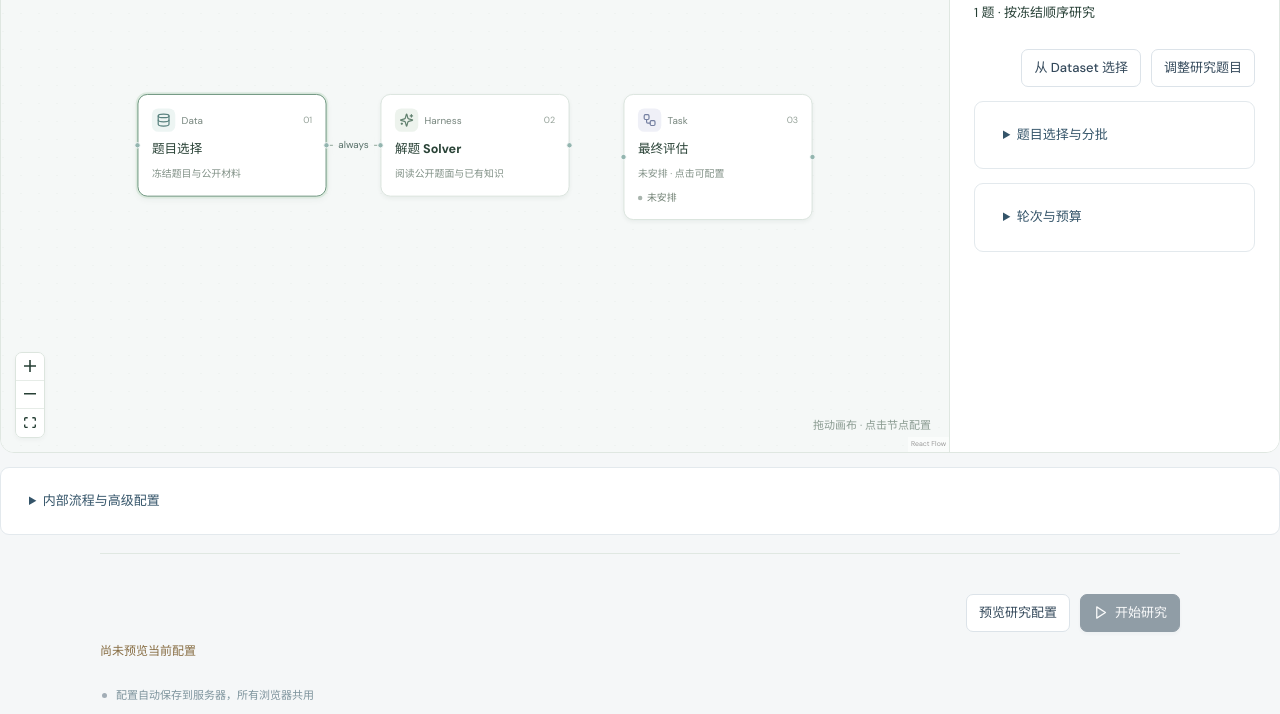
Test case: requires a new preview after the server rejects a stale model revision
The image size is (1280, 714).
(page scrolled)
Step 1. Click the button "预览研究配置" → (1018, 613), box x1=966 y1=594 x2=1070 y2=632
(page scrolled)
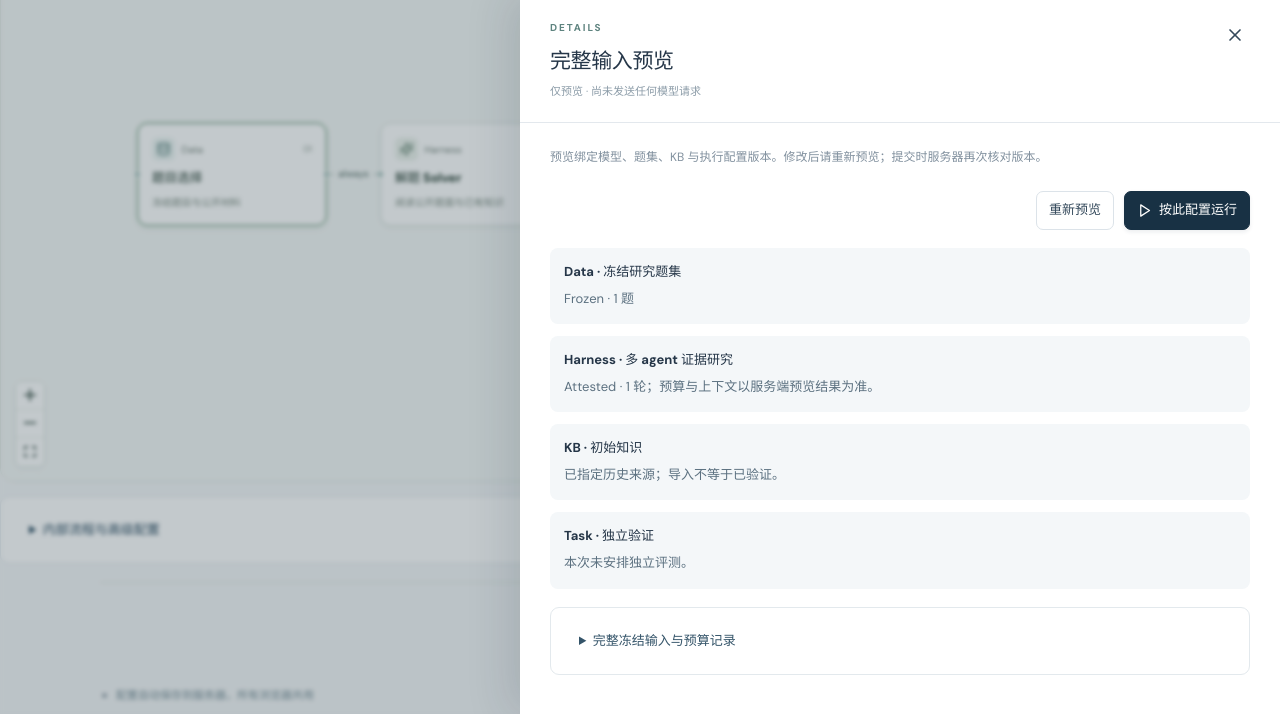
Step 2. Click the button "按此配置运行" → (1187, 211), box x1=1124 y1=192 x2=1250 y2=230
(page scrolled)
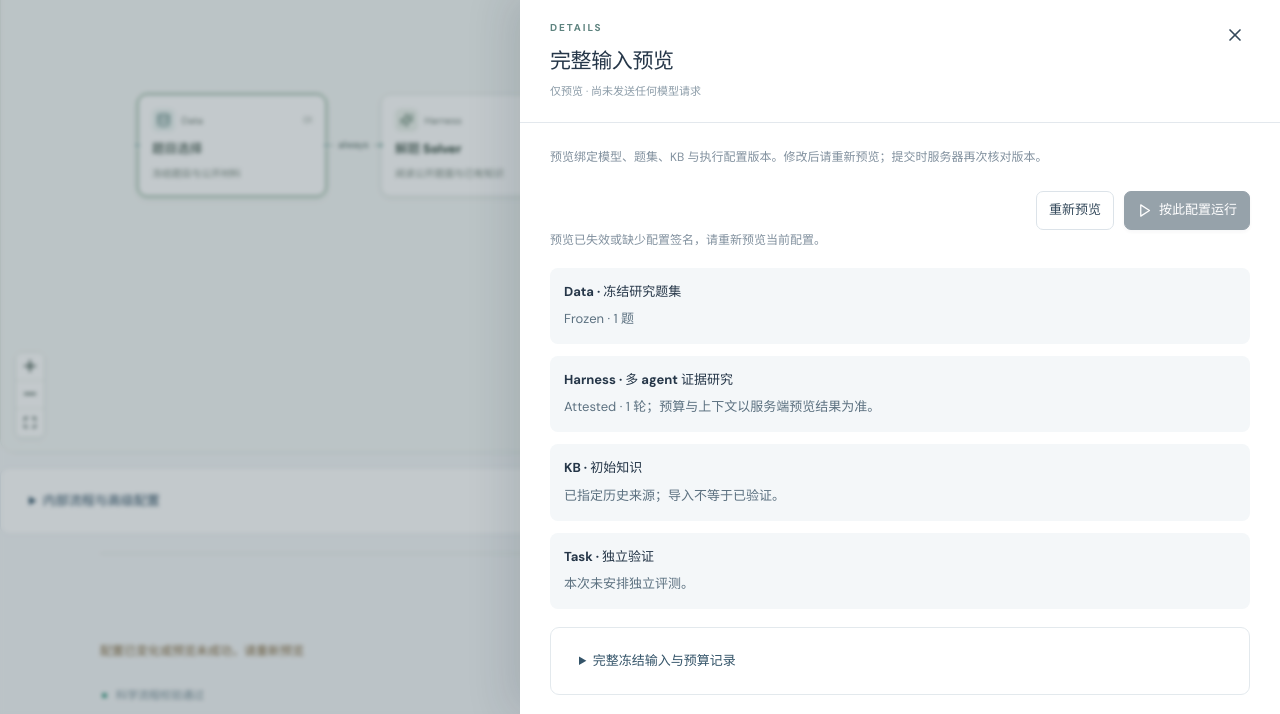
Expected: the button "按此配置运行" is disabled, x1=1124 y1=192 x2=1250 y2=230
Expected: the text "预览已失效或缺少配置签名，请重新预览当前配置。" is shown, x1=550 y1=232 x2=826 y2=248
